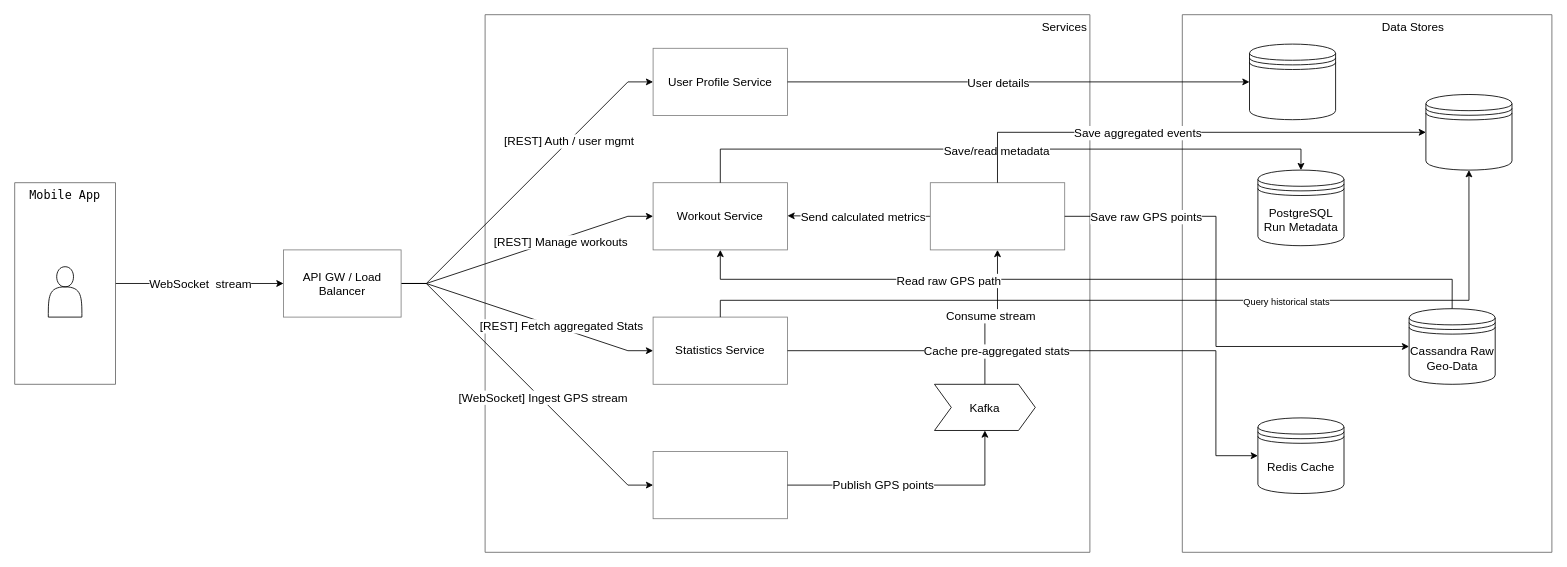
Image size: 1567x567. Some labels were removed from this diagram. Each missing label, with the centre of its shape:
"ClickHouse DB" belongs at pixel 1468 132.
"PostgreSQL User Data" belongs at pixel 1292 81.
"Stream Processor" belongs at pixel 997 216.
"Tracking Ingestion Service" belongs at pixel 720 485.
